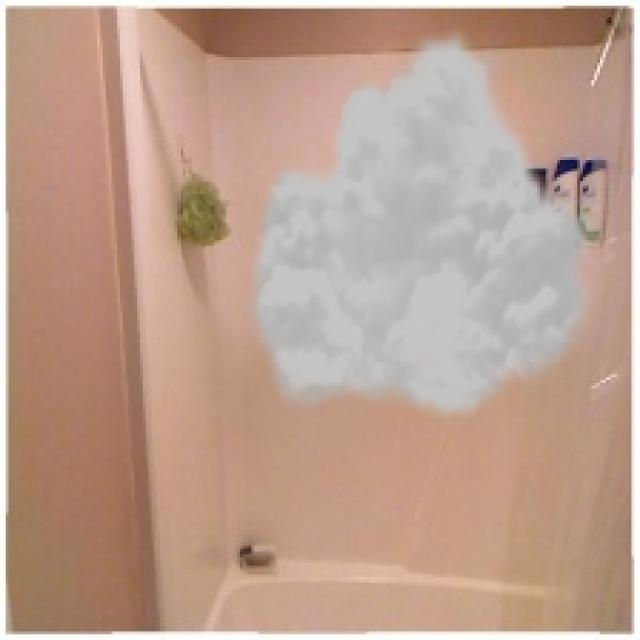smoke: (243, 23, 603, 423)
